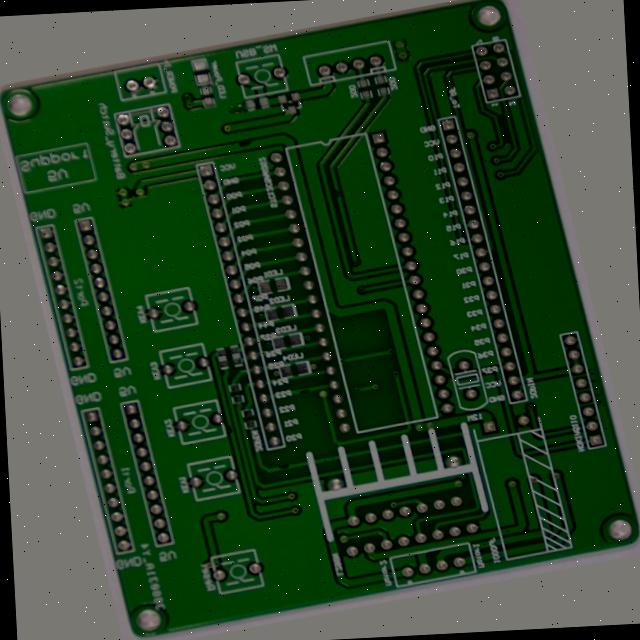mouse_bite: (257, 106, 284, 124), (273, 387, 295, 406), (233, 467, 255, 485), (181, 416, 196, 437), (360, 174, 376, 192)
